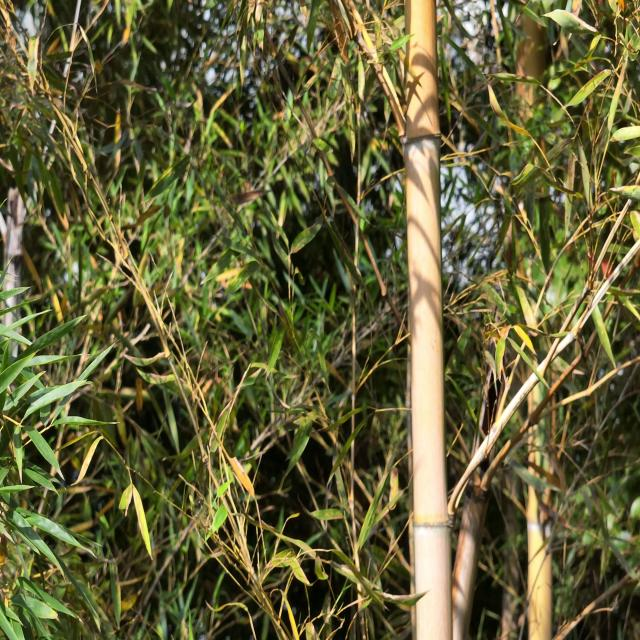Bamboo-shoots: (405, 0, 454, 640)
